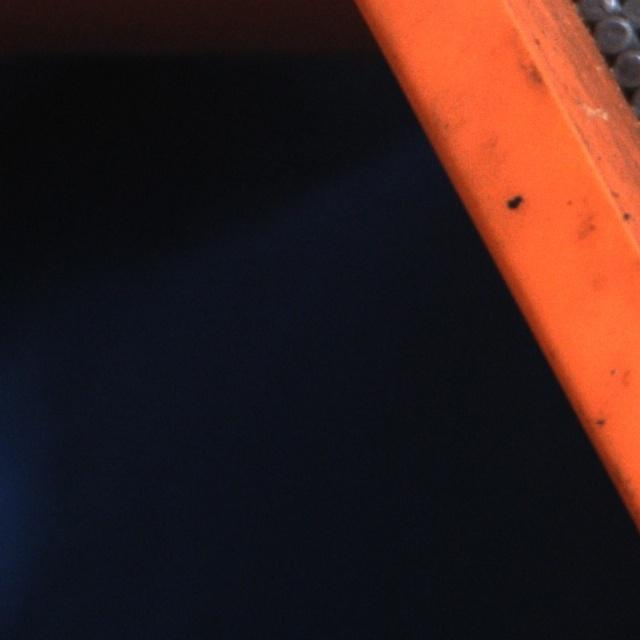tool: (595, 13, 634, 52), (611, 48, 640, 86), (576, 0, 614, 18)
